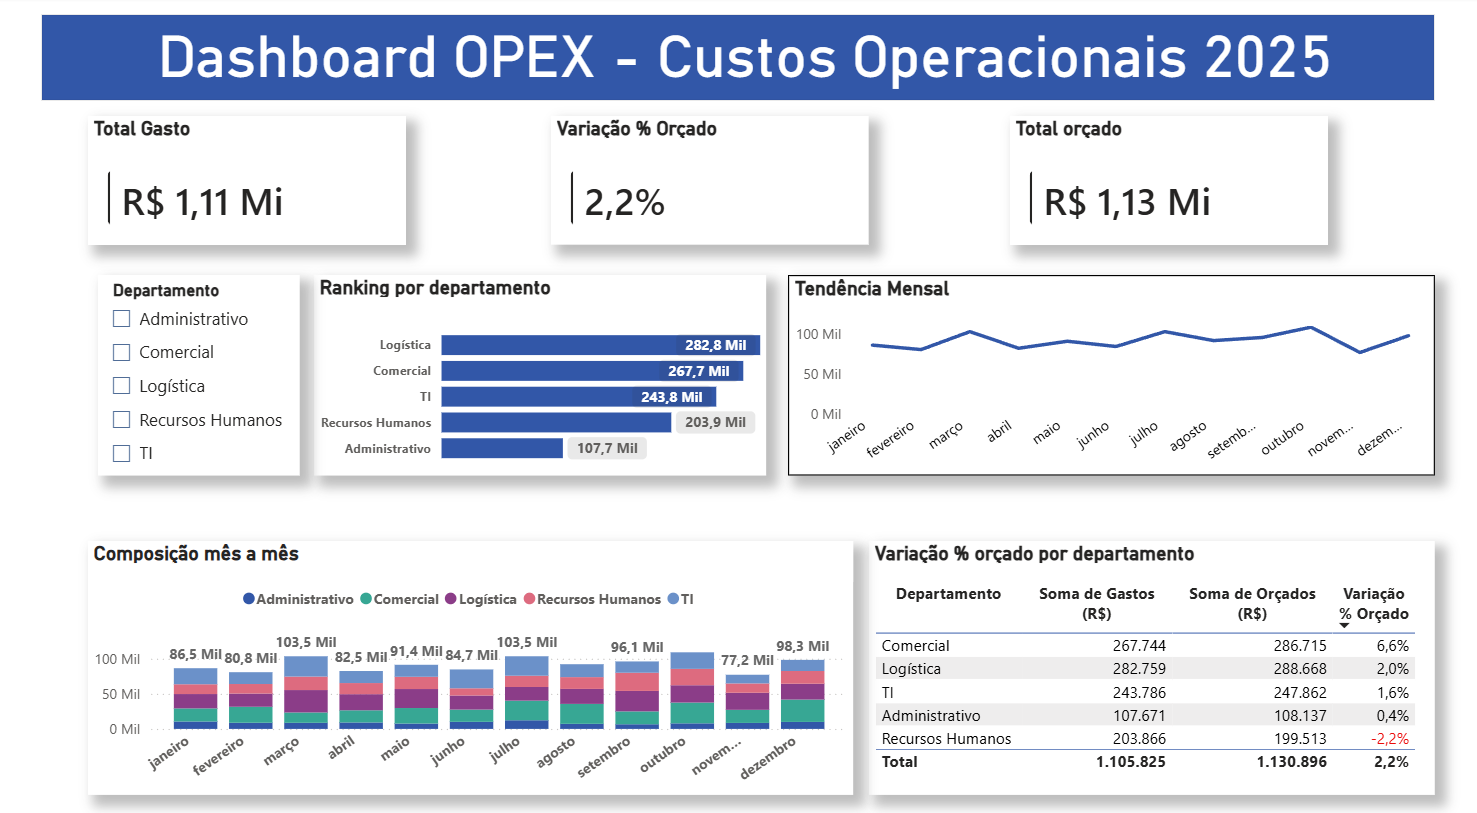

Layout of this report page (visuals, bound fields, positions):
{"tool":"powerbi","page":{"name":"Página 1","canvas":[1280,720],"ordinal":0},"visuals":[{"type":"shape","box":[37.1,14.7,1202.4,75],"z":0},{"type":"clusteredBarChart","title":"Ranking por departamento","fields":{"Category":["Planilha2.Departamento"],"Y":["Sum(Planilha2.Valor (R$))"]},"box":[272.6,239.8,389.9,172.5],"z":1000},{"type":"lineChart","title":"Tendência Mensal","fields":{"Category":["Planilha2.Data.Variation.Hierarquia de datas.Mês"],"Y":["Sum(Planilha2.Valor (R$))"]},"box":[681.4,239.8,558.1,172.5],"z":2000},{"type":"slicer","fields":{"Values":["Planilha2.Departamento"]},"box":[86.3,239.8,174.2,172.5],"z":3000},{"type":"cardVisual","title":"Variação % Orçado","fields":{"Data":["Planilha2.Variação % Orçado","select"]},"box":[477,102.6,274,111],"z":4000},{"type":"tableEx","title":"Variação % orçado por departamento","fields":{"Values":["Planilha2.Departamento","Sum(Planilha2.Valor (R$))","Sum(Planilha2.Orçado (R$))","Planilha2.Variação % Orçado"]},"box":[751.3,469.2,488.2,219.1],"z":5000},{"type":"columnChart","title":"Composição mês a mês","fields":{"Category":["Planilha2.Data.Variation.Hierarquia de datas.Mês"],"Y":["Sum(Planilha2.Valor (R$))"],"Series":["Planilha2.Departamento"]},"box":[77.6,469.2,659.8,219.1],"z":6000},{"type":"group","id":"g1","title":"Grupo 1","box":[56.1,17.3,1177.4,74.2],"z":7000},{"type":"textbox","box":[56.1,17.3,1177.4,74.2],"z":8000,"group":"g1"},{"type":"cardVisual","title":"Total Gasto","fields":{"Data":["Sum(Planilha2.Valor (R$))"]},"box":[77.6,102.6,274,111.3],"z":8000},{"type":"cardVisual","title":"Total orçado","fields":{"Data":["Sum(Planilha2.Orçado (R$))"]},"box":[872.9,102.6,274.3,111.3],"z":9000}]}

Visuals, with their boxes in screenshot pixels (x1, y1, x2, y2), scaled from the page's 1280x720 canvas onto the 1477x813 screenshot:
shape: x1=43 y1=17 x2=1430 y2=101
"Ranking por departamento" clusteredBarChart: x1=315 y1=271 x2=764 y2=466
"Tendência Mensal" lineChart: x1=786 y1=271 x2=1430 y2=466
slicer - Planilha2.Departamento: x1=100 y1=271 x2=301 y2=466
"Variação % Orçado" cardVisual: x1=550 y1=116 x2=867 y2=241
"Variação % orçado por departamento" tableEx: x1=867 y1=530 x2=1430 y2=777
"Composição mês a mês" columnChart: x1=90 y1=530 x2=851 y2=777
"Grupo 1" group: x1=65 y1=20 x2=1423 y2=103
textbox: x1=65 y1=20 x2=1423 y2=103
"Total Gasto" cardVisual: x1=90 y1=116 x2=406 y2=242
"Total orçado" cardVisual: x1=1007 y1=116 x2=1324 y2=242
